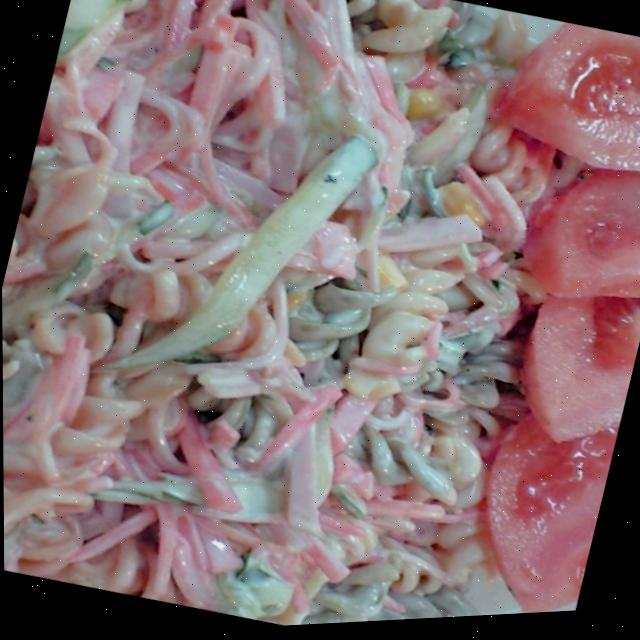蔬菜料理: (0, 0, 637, 640)
